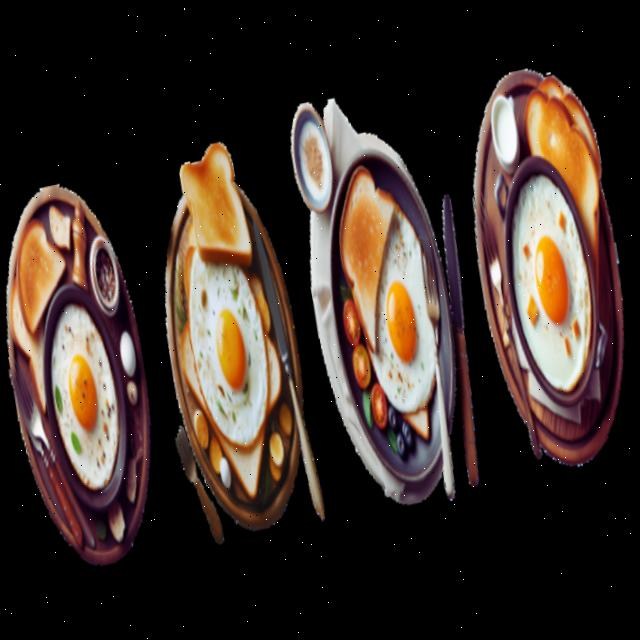Egg: (512, 180, 593, 400), (190, 252, 270, 451), (373, 208, 436, 419), (52, 304, 121, 491)
